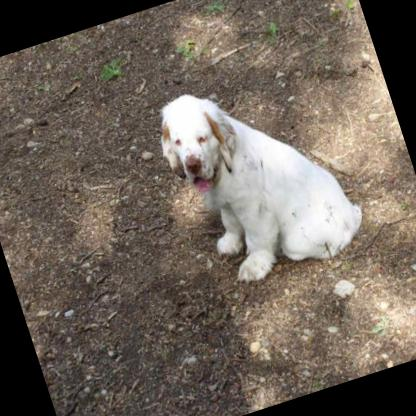clumber: (140, 45, 374, 300)
